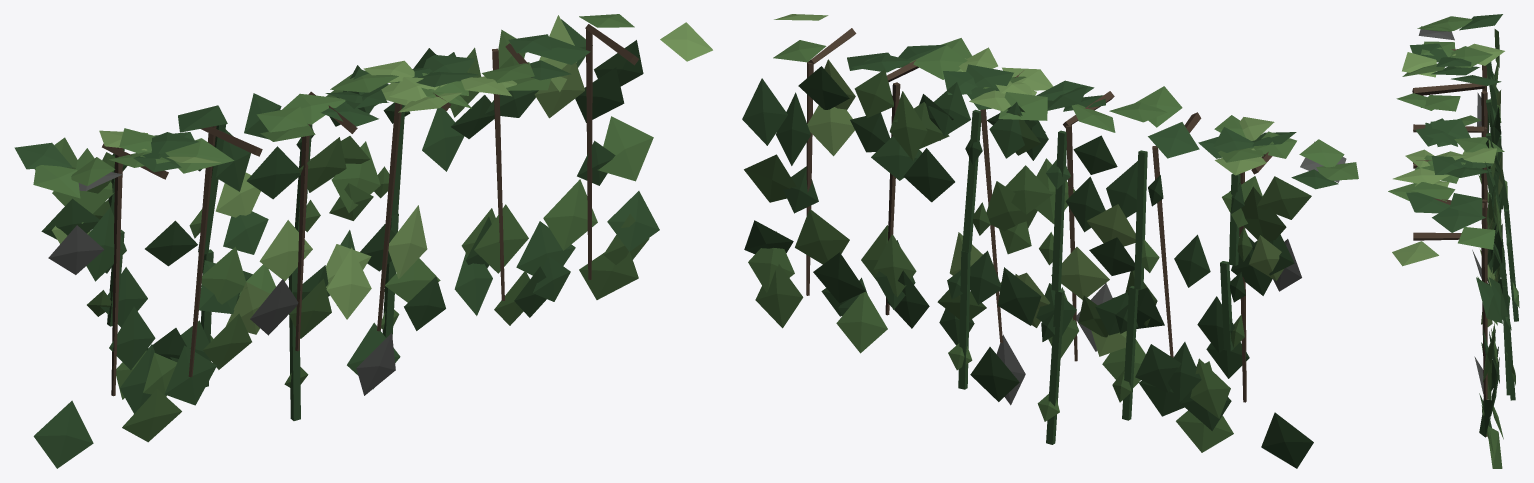
File: vine_cornice.glb
3 views of the same model, side by side, from view 1: azimuth 30°, elevation 25°; view 2: azimuth 150°, elevation 25°; view 3: azimuth 270°, elevation 25° (orthographic). The views are drawn at different scales.
Visible parts, largest first — view 1: vine_cornice; view 2: vine_cornice; view 3: vine_cornice.
Part boxes in pixels (left/top/right/bottom): vine_cornice: left=14, top=14, right=712, bottom=468; vine_cornice: left=742, top=14, right=1358, bottom=468; vine_cornice: left=1388, top=14, right=1519, bottom=468.
Size of the model in its own units: 2.9 by 1.51 by 0.6501.
Materials: 1 (1 with a texture image).
